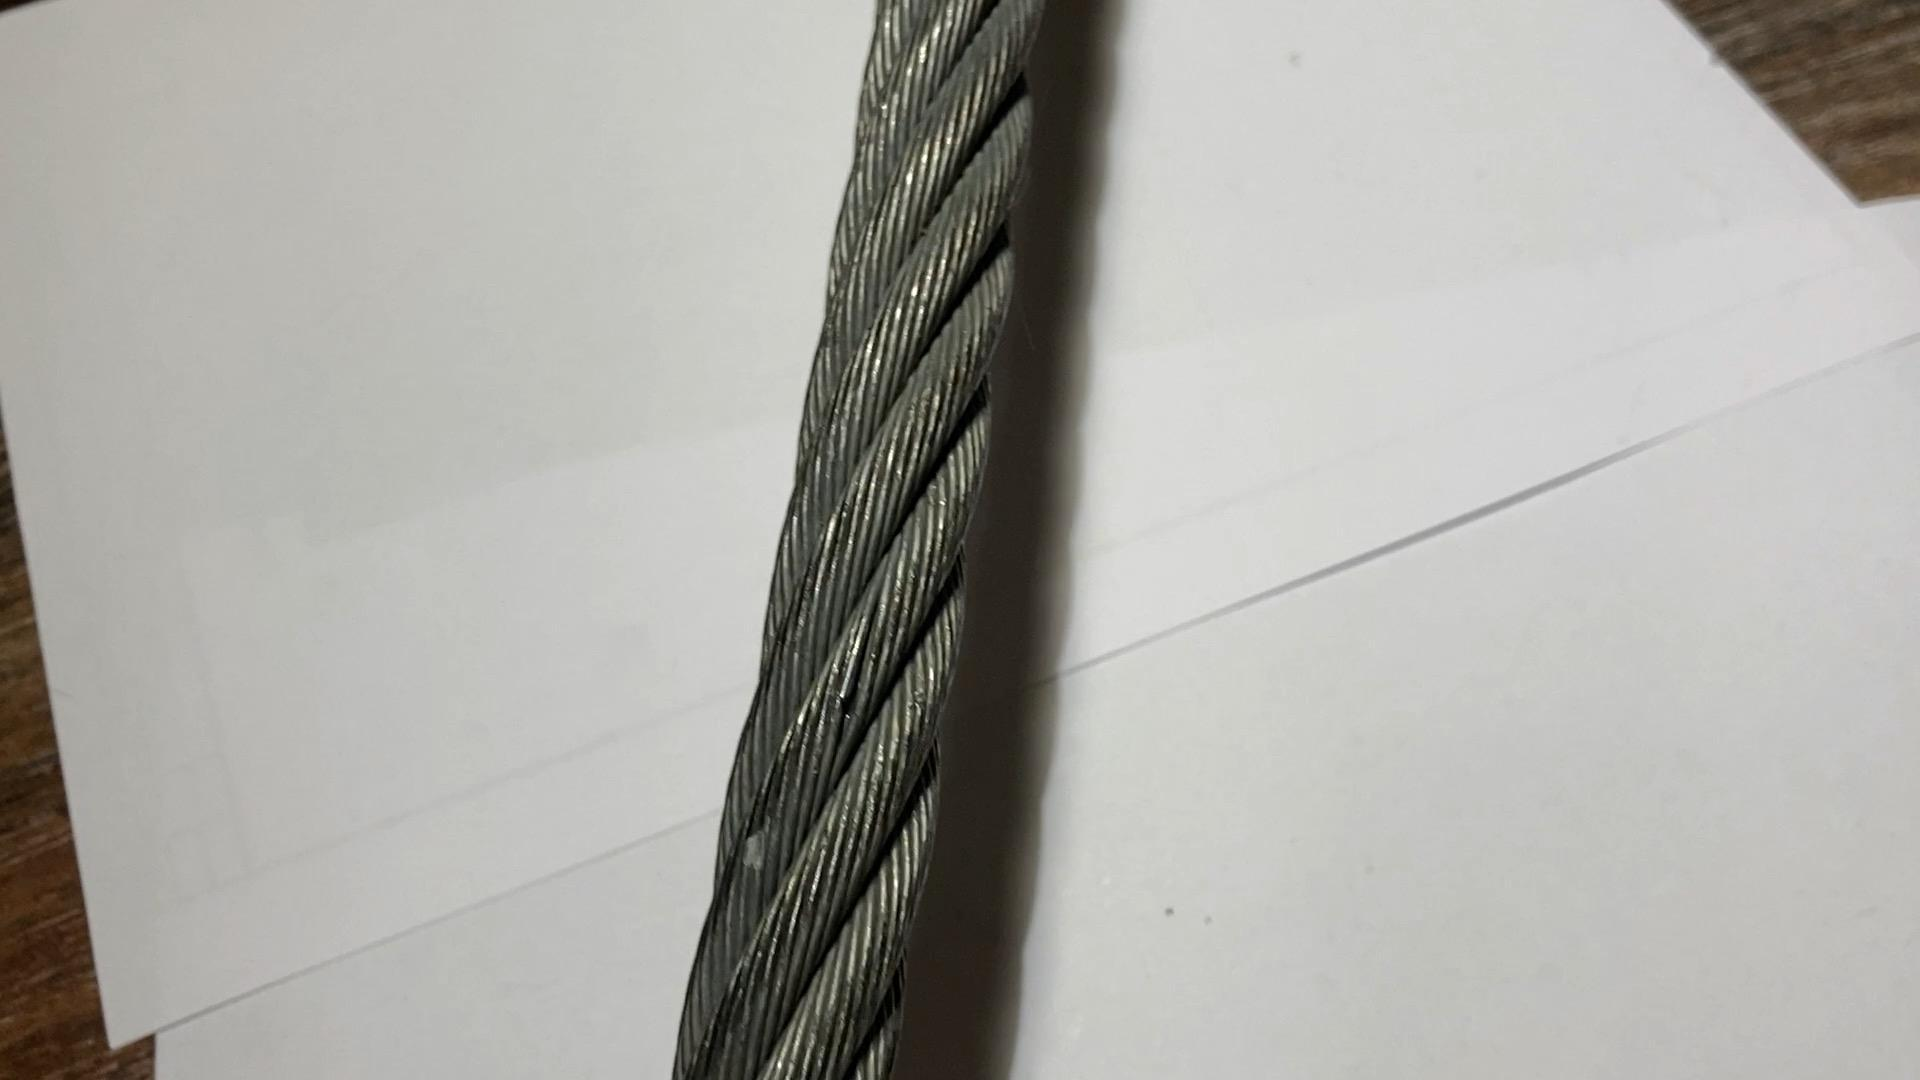break: (831, 661, 887, 696)
